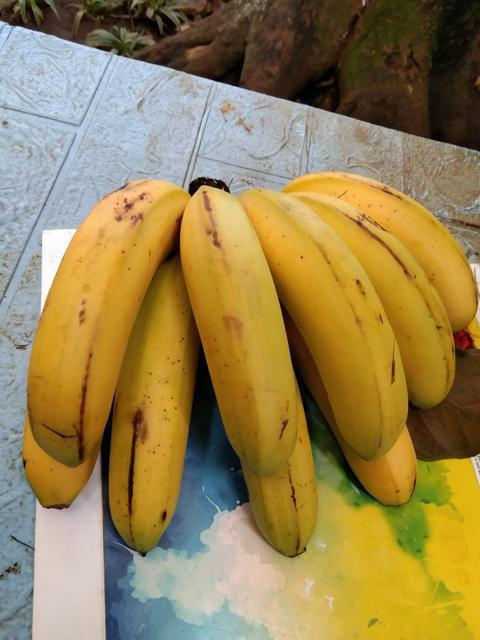ripe: (6, 172, 181, 463), (173, 183, 308, 478), (102, 289, 201, 558)
